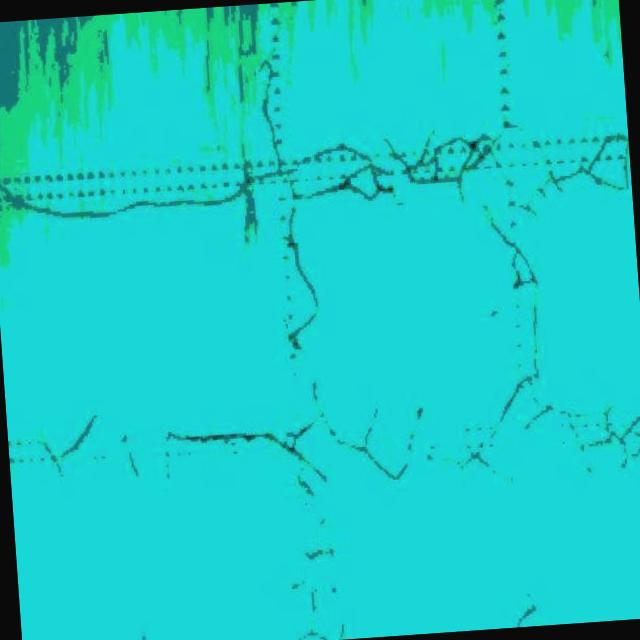crack: (15, 365, 640, 524), (0, 116, 632, 243), (240, 55, 355, 640), (508, 588, 540, 626)
